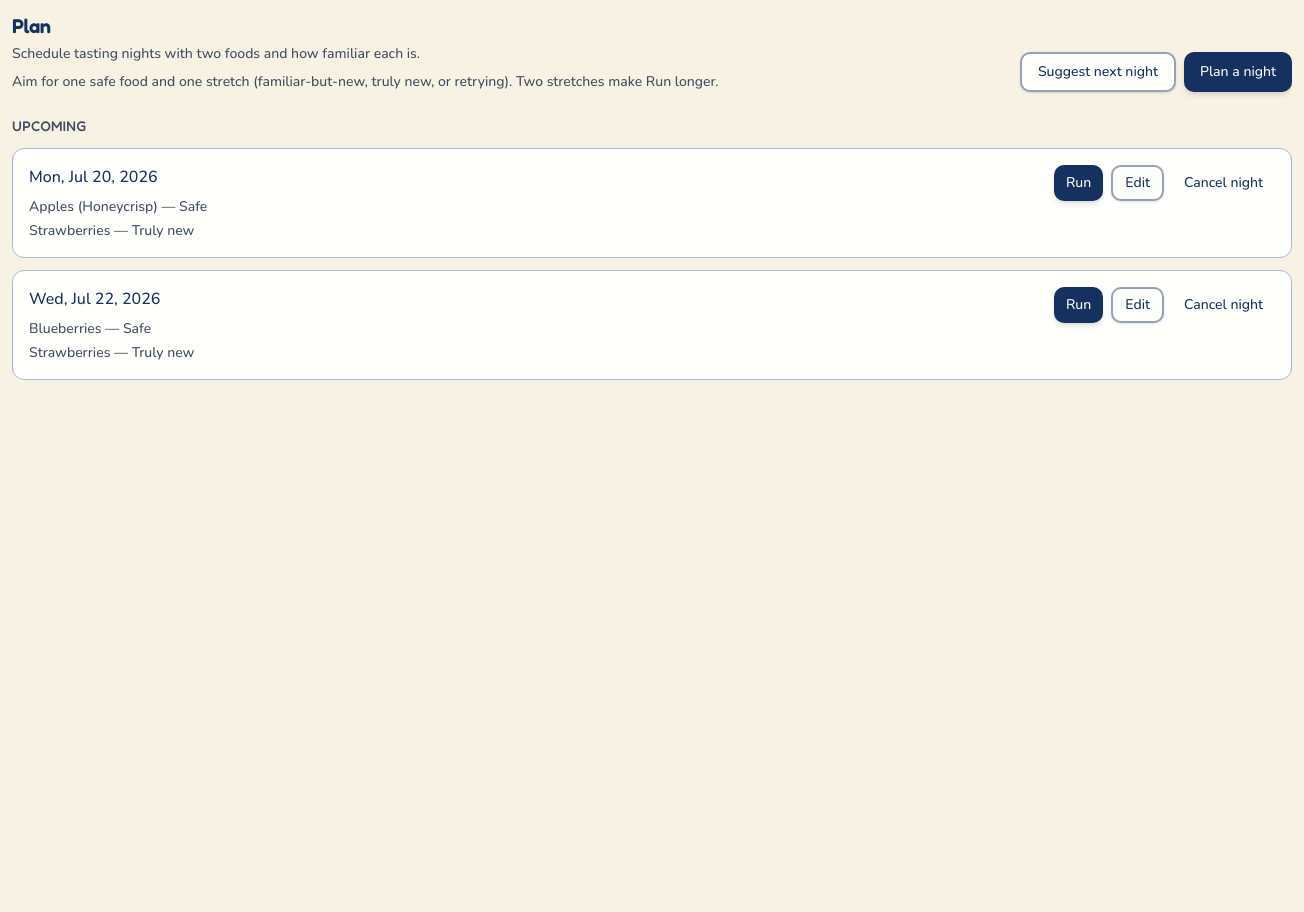
PlanPage › keeps the edited night's own date selectable
Expected: the list item "Apples (Honeycrisp) — Safe" is shown, [29,197,207,217]
Click the button "Edit" in the row of "(Honeycrisp)": x=1138, y=183 [1111,165,1164,201]
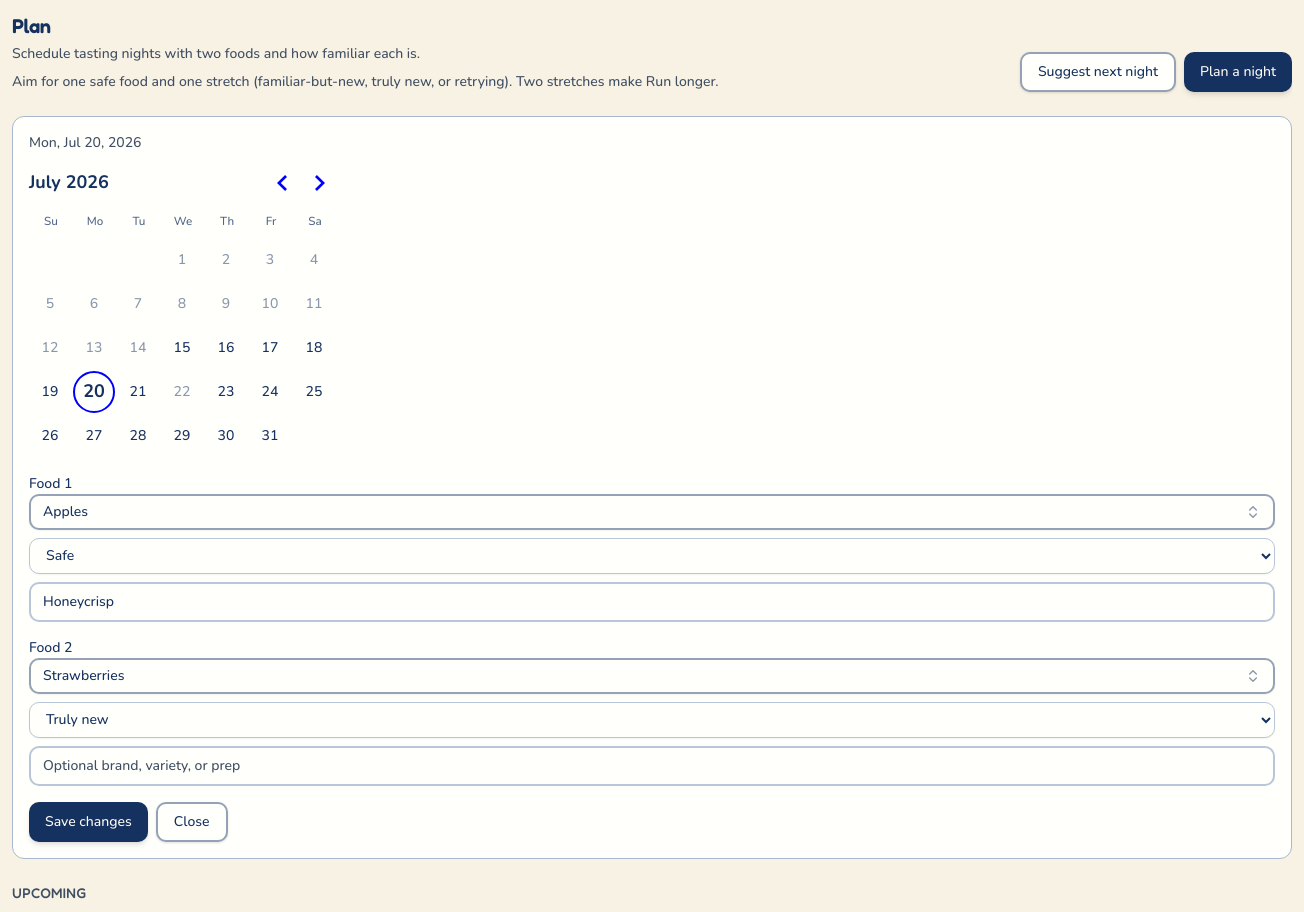
Expected: the button "20" is enabled, [73,371,115,413]
Expected: the button named "July 22" is disabled, [161,371,203,413]
Expected: the text with test id "Date summary" shows "Jul", [29,133,142,152]
